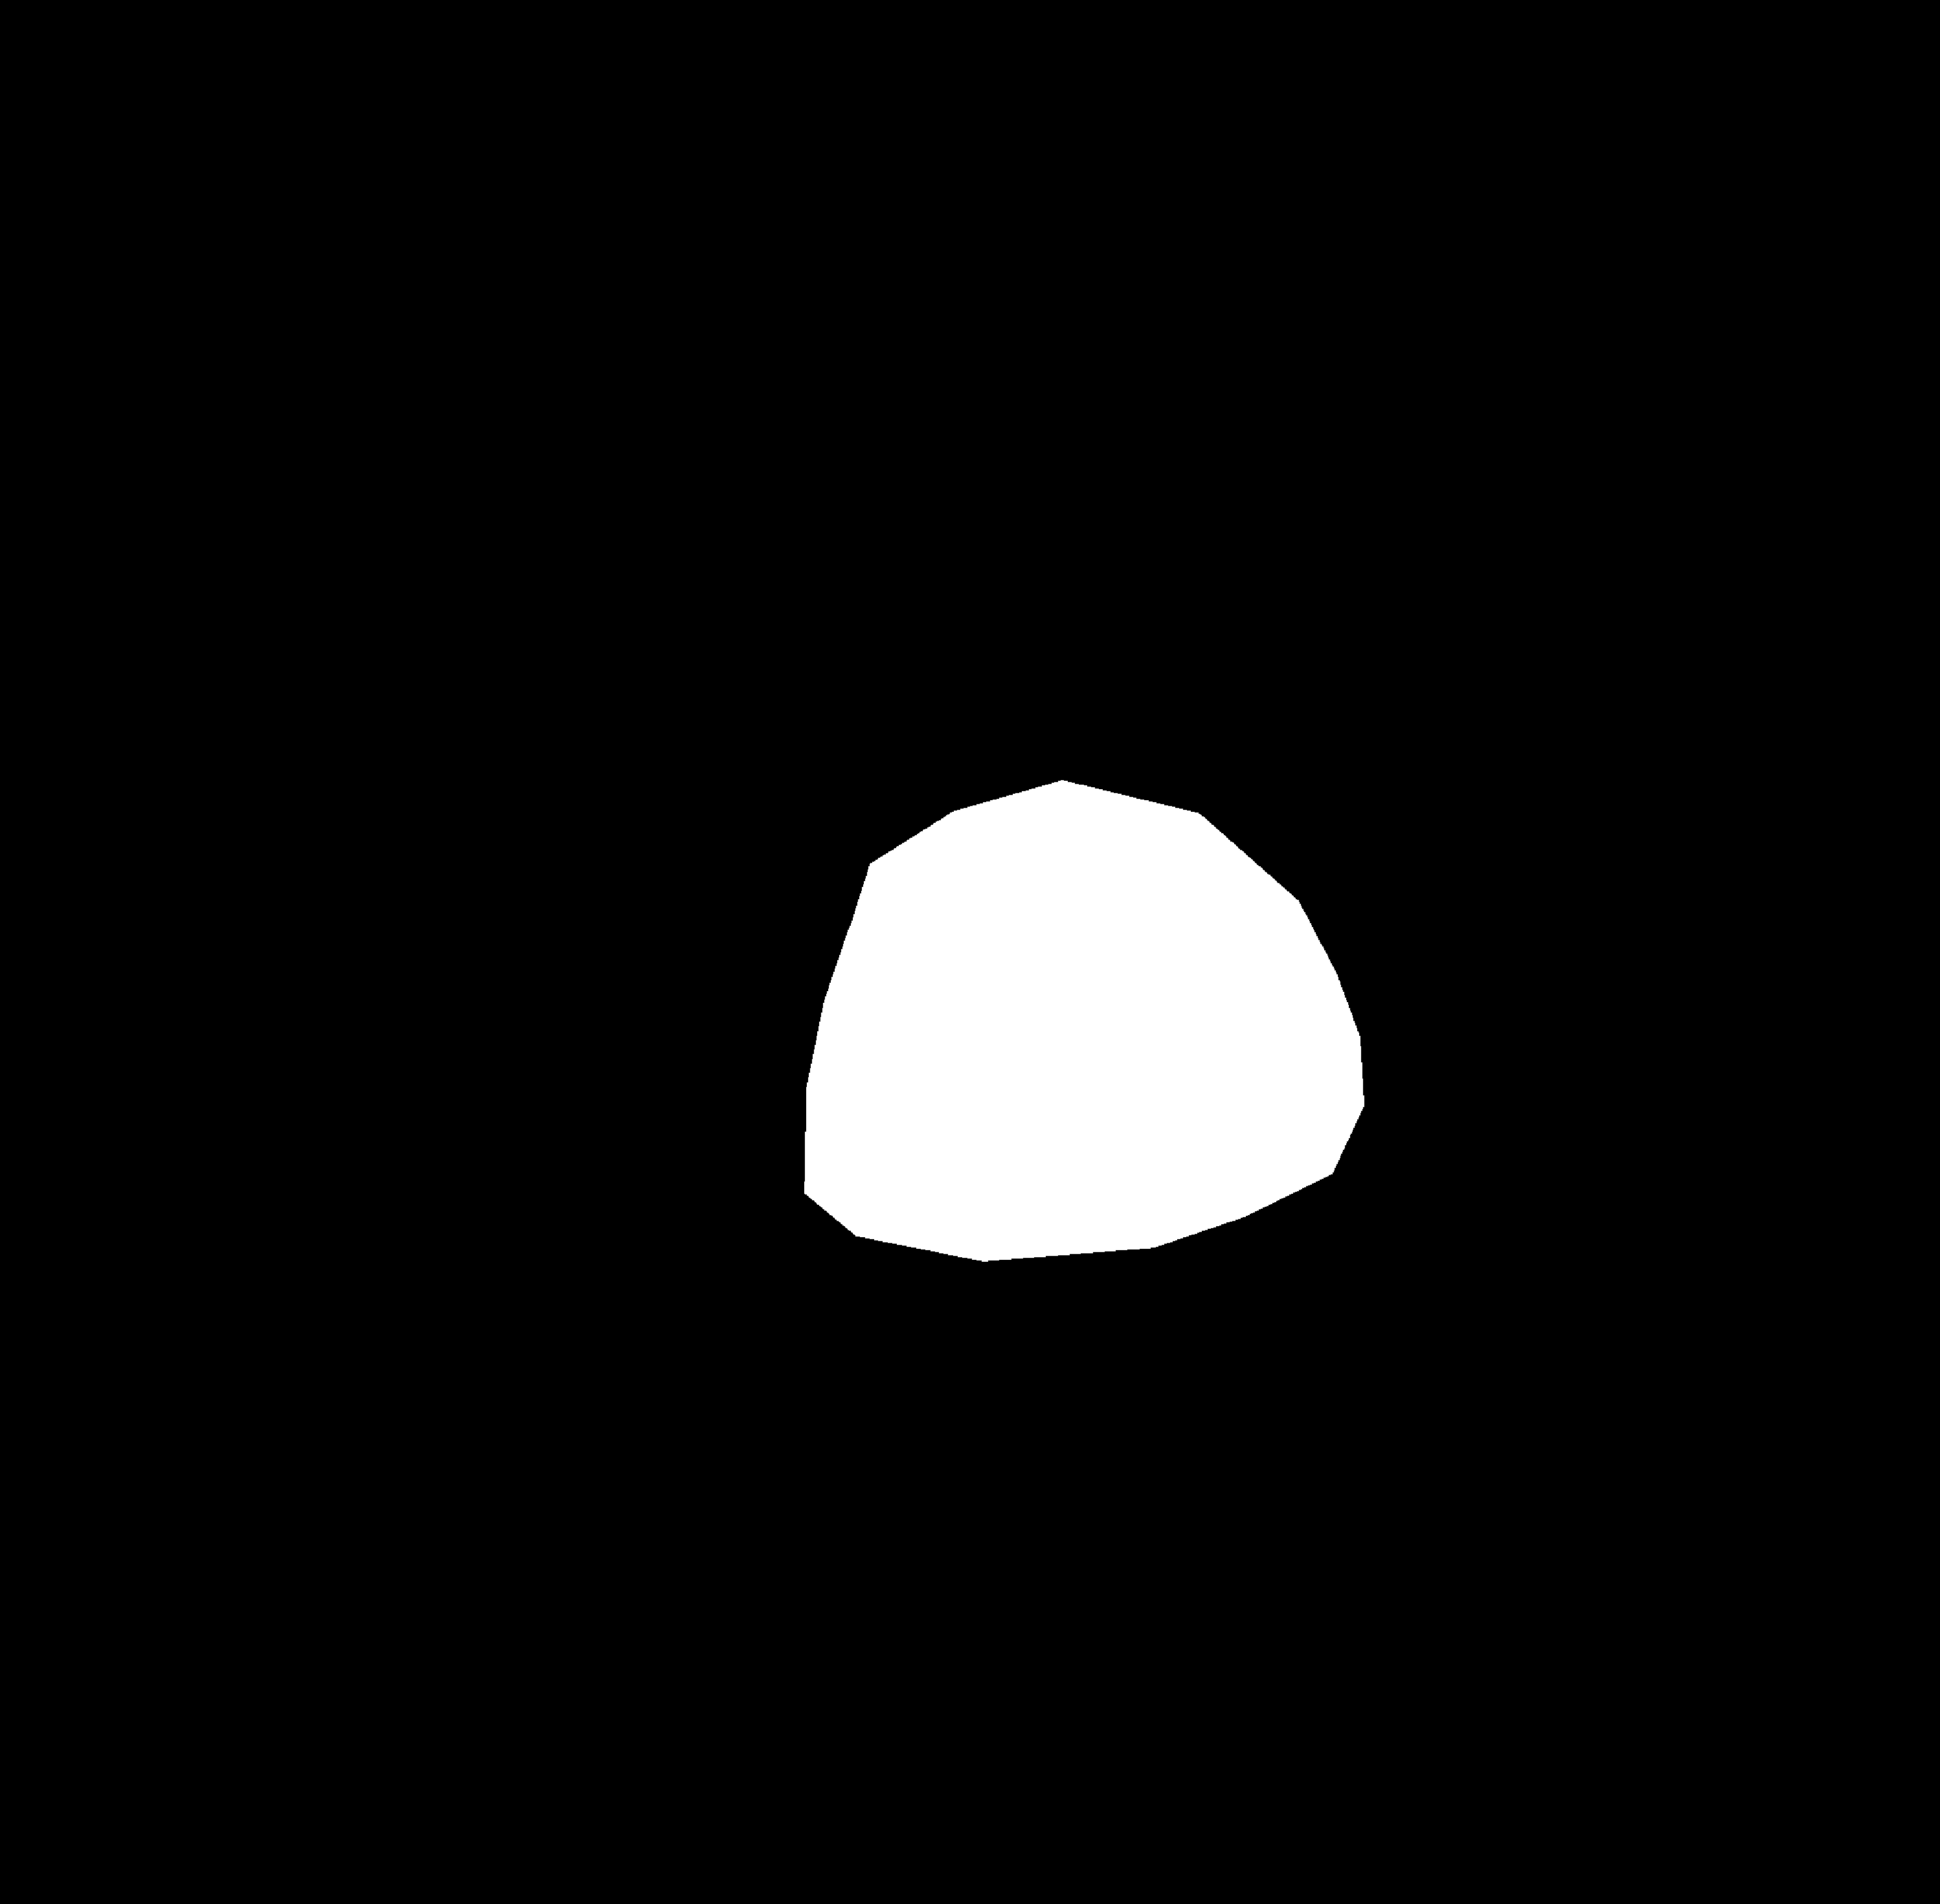heart: (806, 1008, 1563, 1397)
left_lung: (331, 202, 860, 1362)
right_lung: (1118, 260, 1455, 921)
